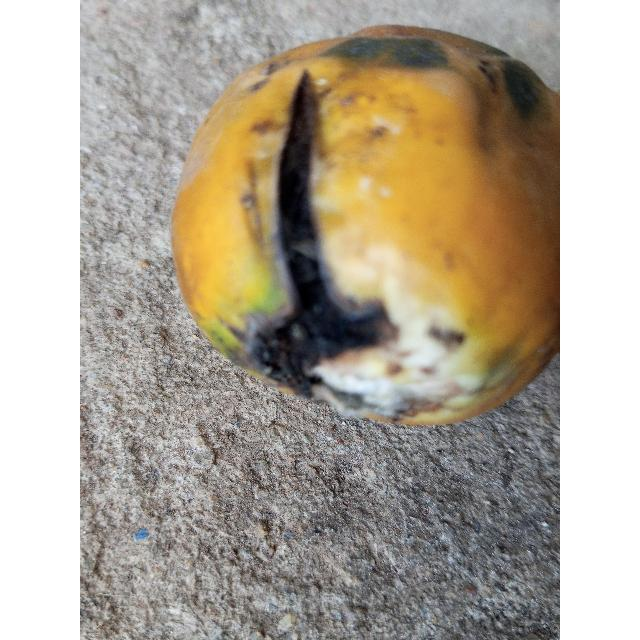damaged: (170, 26, 560, 431)
